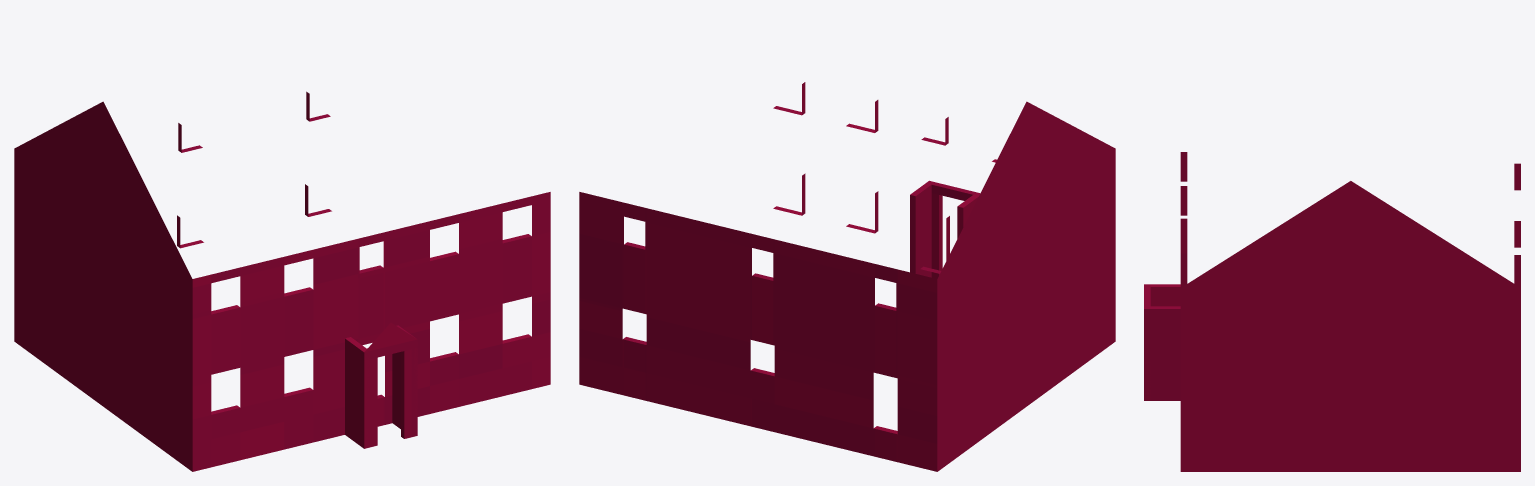
File: SM_Bld_239_Masonry.glb
3 renders of one model, left to right at view 1: azimuth 30°, elevation 25°; view 2: azimuth 150°, elevation 25°; view 3: azimuth 270°, elevation 25°, orthographic. The views are drawn at different scales.
Parts seen in each view (by area): view 1: SM_Bld_239_Masonry; view 2: SM_Bld_239_Masonry; view 3: SM_Bld_239_Masonry.
Boxes of the visible parts, bbox=[...] form: SM_Bld_239_Masonry: bbox=[14, 91, 550, 471]; SM_Bld_239_Masonry: bbox=[579, 82, 1115, 471]; SM_Bld_239_Masonry: bbox=[1144, 152, 1520, 471].
Size of the model in its own units: 13.41 by 10.92 by 12.81.
